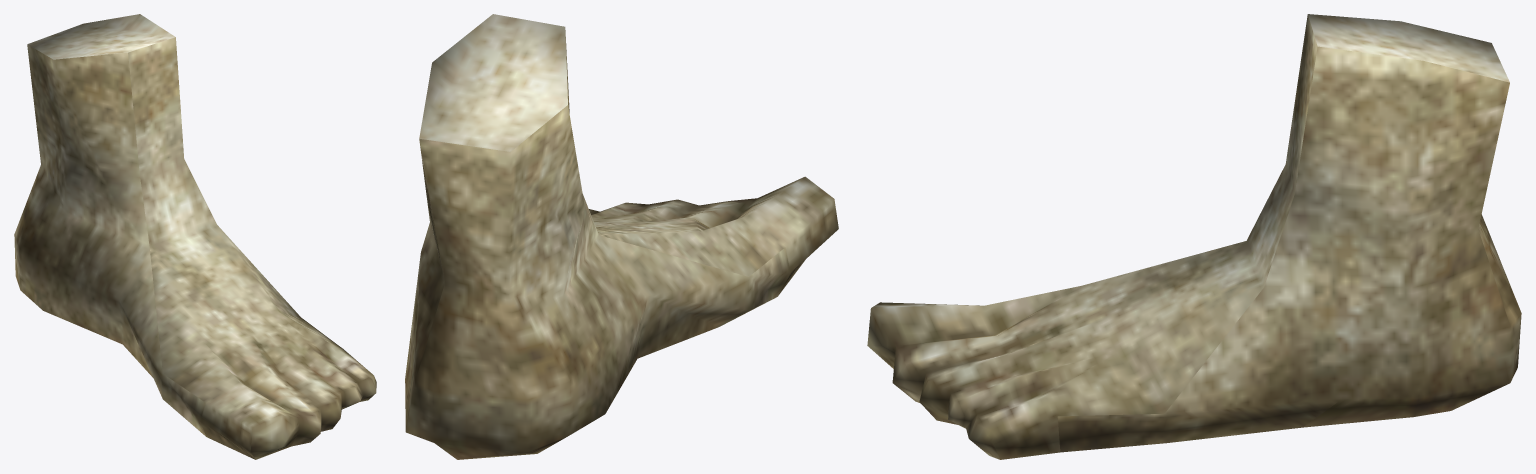
Rendered from general_obj_stoneimage02.fbx.
The picture shows the model from 3 angles, left to right: view 1: azimuth 30°, elevation 25°; view 2: azimuth 150°, elevation 25°; view 3: azimuth 270°, elevation 25°; orthographic projection. The views are drawn at different scales.
Visible parts, largest first — view 1: Sphere01; view 2: Sphere01; view 3: Sphere01.
Boxes of the visible parts, x1,y1,x2,y2 form: Sphere01: (14,14,376,459); Sphere01: (405,14,838,459); Sphere01: (867,14,1521,459).
Size of the model in its own units: 1.75 by 2.62 by 4.17.
